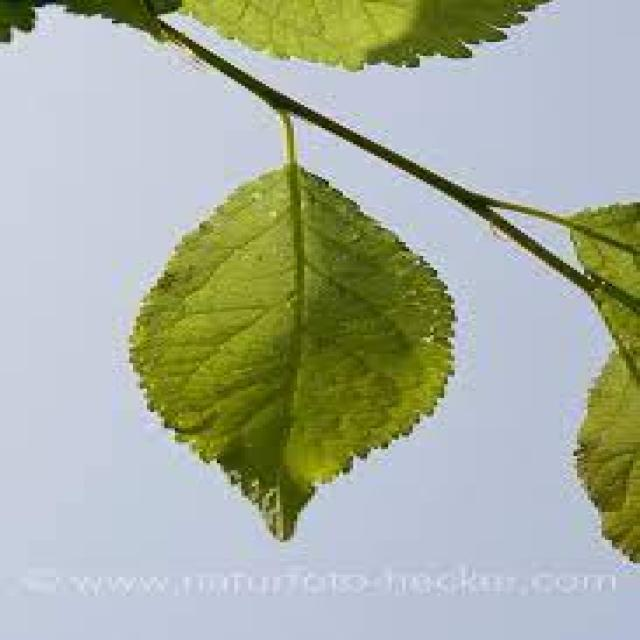leaf: (127, 161, 458, 541)
